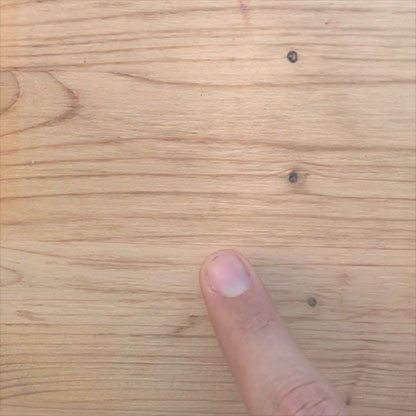fingertip: (181, 243, 276, 317)
